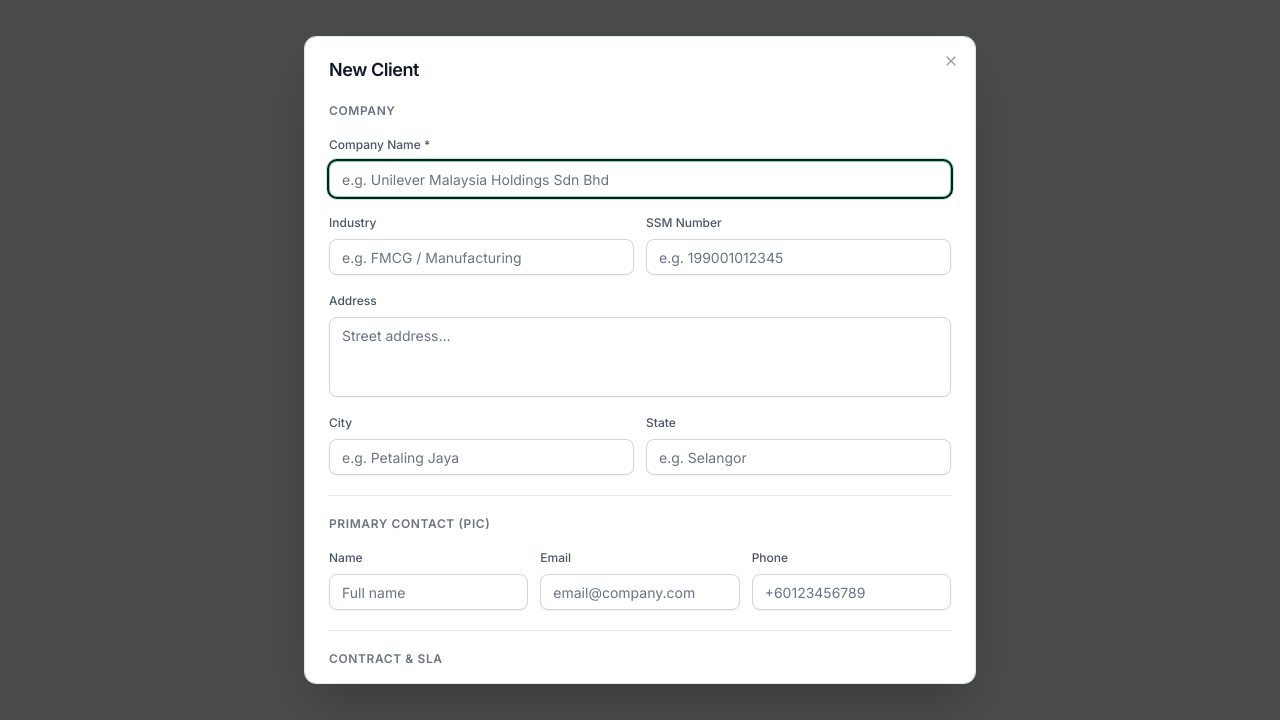
Scenario: ClientForm — Validation › shows error for invalid email format
The image size is (1280, 720).
# Fill company name (required)
Type "Test Company" into the field with placeholder "e.g. Unilever Malaysia Holdings Sdn Bhd" at (640, 179), box [329,161,951,197]
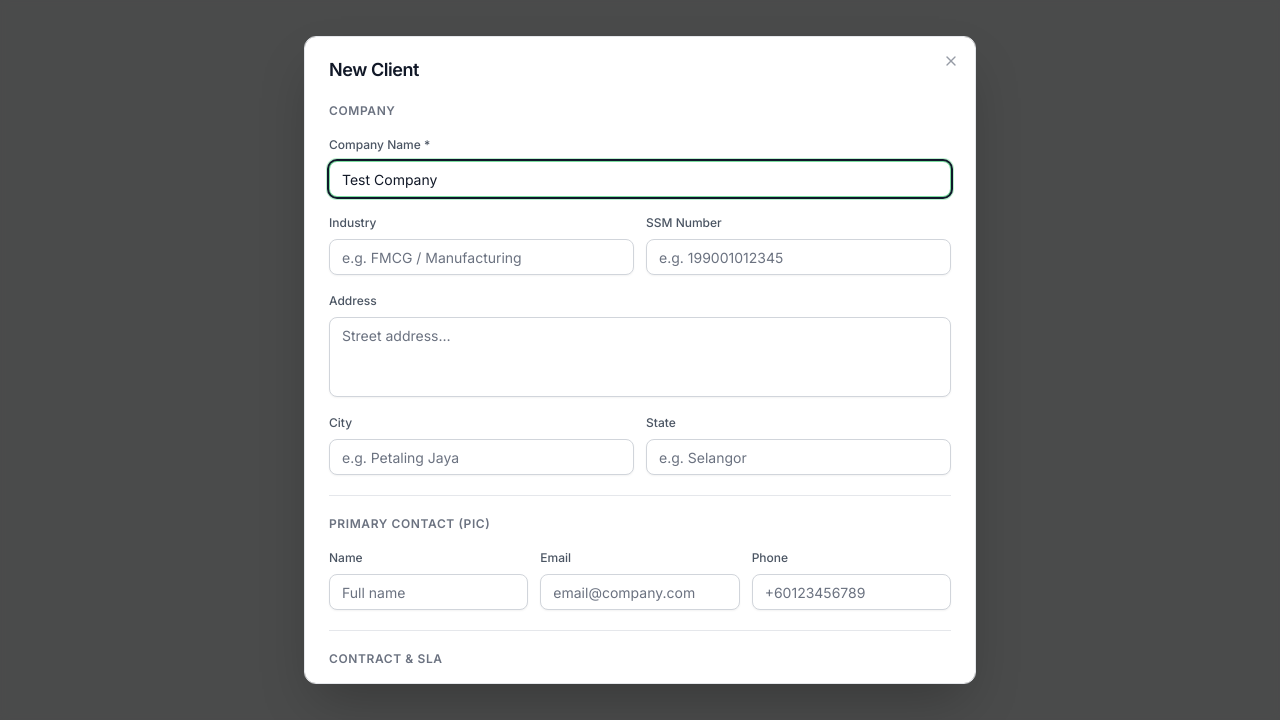
# Enter invalid email
Type "invalid-email" into the field with placeholder "email@company.com" at (640, 592), box [540,574,740,610]
(page scrolled)
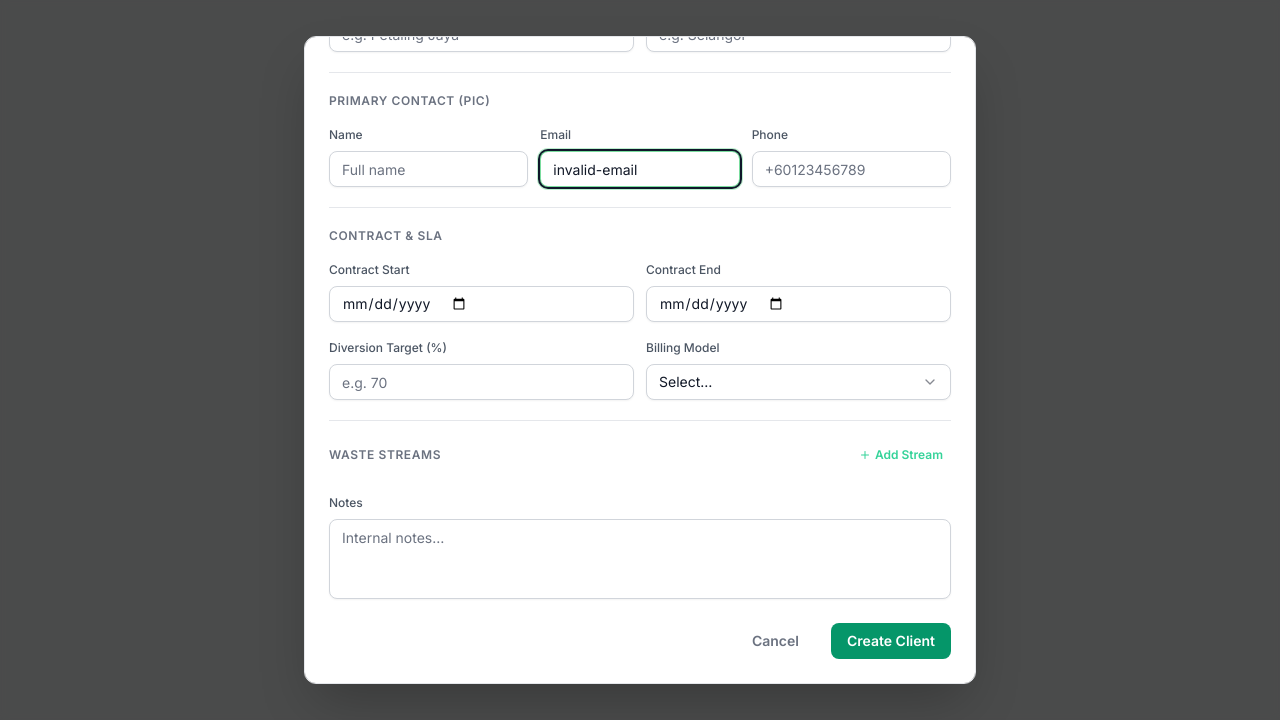
Click the button "Create Client" at (891, 641), box [831,623,951,659]
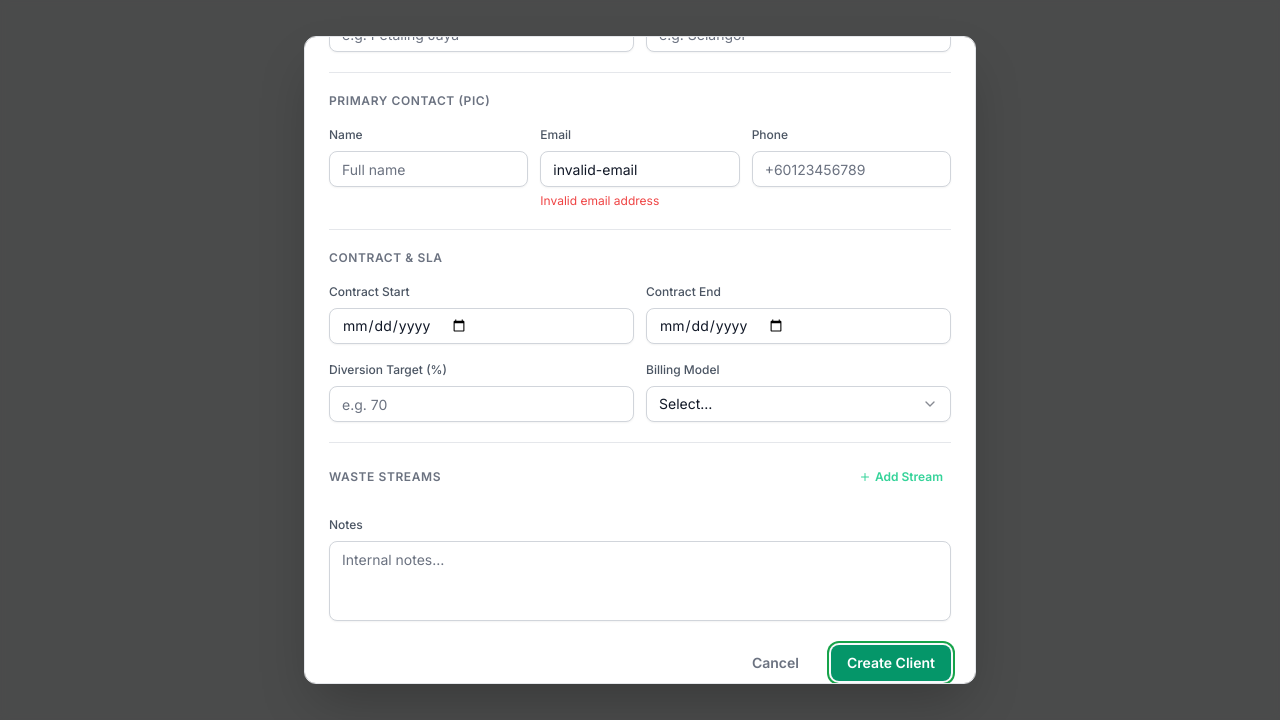
Now the text "Invalid email address" is shown, box [540,193,659,208]
